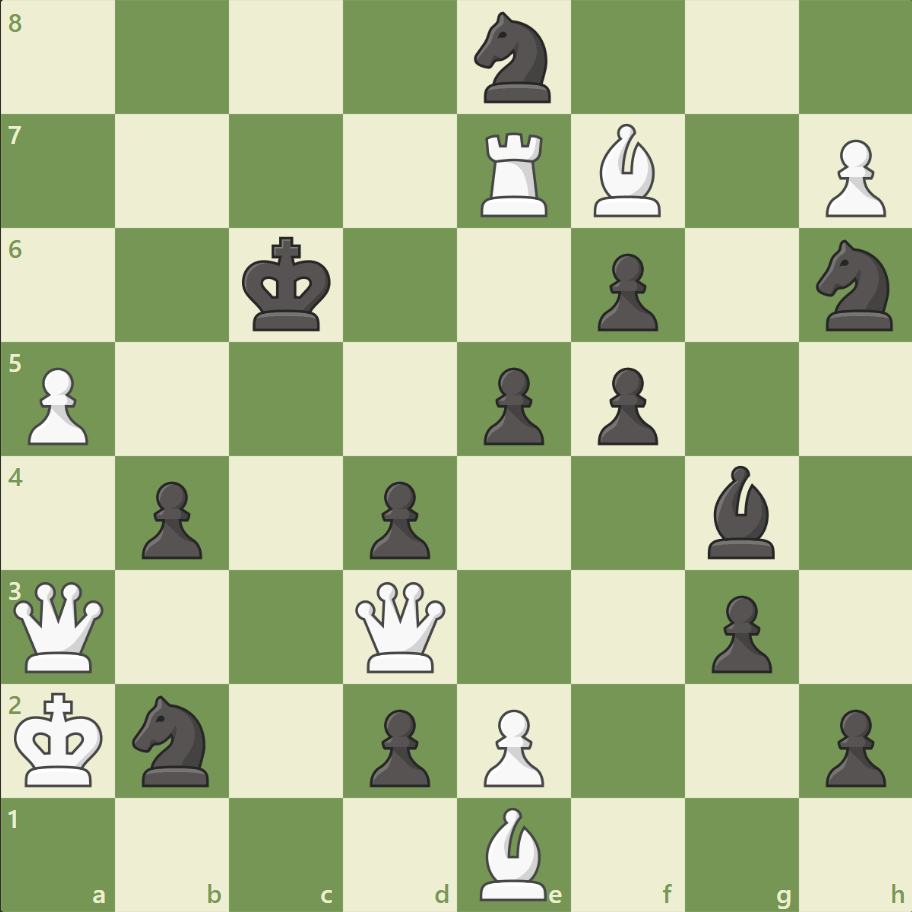B: (471, 801, 555, 904), (585, 120, 669, 222)
K: (11, 685, 111, 793)
P: (20, 359, 95, 450), (474, 700, 549, 791), (815, 132, 889, 223)
Q: (10, 576, 109, 676), (351, 576, 450, 676)
R: (473, 125, 556, 222)
b: (698, 460, 782, 563)
k: (238, 231, 338, 339)
n: (124, 688, 222, 791), (465, 7, 562, 110), (806, 234, 903, 337)
p: (474, 359, 549, 450), (133, 473, 208, 564), (701, 586, 776, 677), (588, 246, 662, 337), (588, 359, 662, 450), (361, 473, 435, 564), (361, 700, 435, 791), (815, 700, 889, 791)
